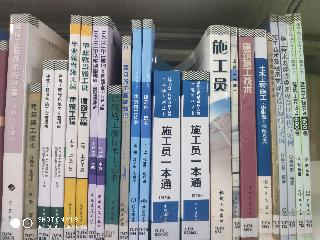book-spine: (1, 13, 29, 240), (153, 71, 182, 239), (210, 27, 231, 240), (183, 71, 209, 239), (286, 14, 304, 239), (238, 29, 257, 239), (295, 13, 312, 239), (271, 15, 288, 240), (279, 15, 296, 240), (254, 29, 272, 239), (65, 16, 80, 240), (77, 16, 92, 240), (266, 33, 280, 239), (51, 61, 67, 240), (39, 61, 54, 239), (88, 17, 100, 239), (139, 19, 151, 240), (129, 21, 141, 240), (24, 83, 40, 240), (97, 17, 108, 240), (105, 85, 120, 239), (119, 36, 130, 239), (230, 27, 239, 239)
